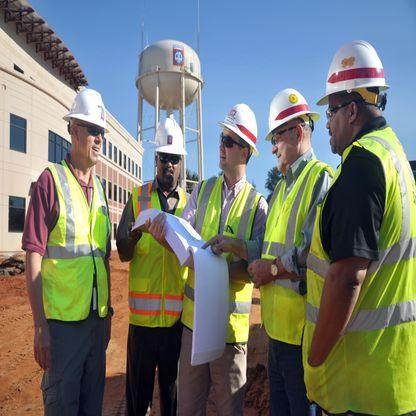helmet: (325, 44, 387, 94), (267, 88, 314, 134), (219, 104, 258, 153), (63, 89, 108, 131), (151, 115, 186, 154)
vest: (301, 131, 415, 411), (184, 176, 263, 335), (258, 162, 327, 339), (41, 161, 111, 318), (131, 184, 187, 324)
